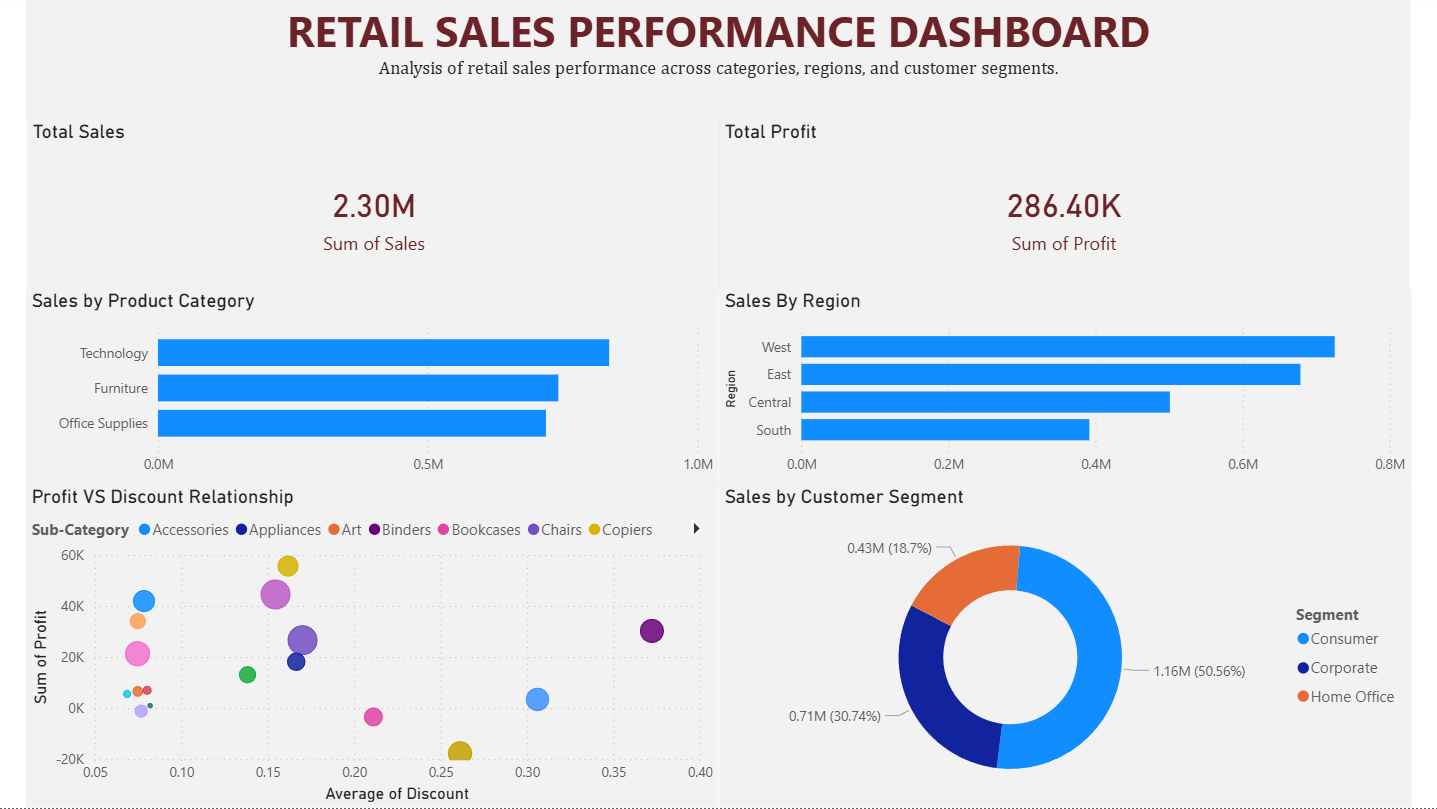

The dashboard page shown, as its layout file describes it:
{"tool":"powerbi","page":{"name":"Page 1","canvas":[1280,720],"ordinal":0},"visuals":[{"type":"textbox","box":[23.9,0,1228.1,110],"z":0},{"type":"card","title":"Total Profit","fields":{"Values":["Sum(SampleSuperstore.Profit)"]},"box":[638.4,110,611.8,149.9],"z":1},{"type":"card","title":"Total Sales","fields":{"Values":["Sum(SampleSuperstore.Sales)"]},"box":[24.8,110,615.4,149.9],"z":2},{"type":"clusteredBarChart","title":"Sales by Product Category","fields":{"Y":["Sum(SampleSuperstore.Sales)"],"Category":["SampleSuperstore.Category"]},"box":[23.9,259.8,614.5,173.8],"z":3},{"type":"clusteredBarChart","title":"Sales By Region","fields":{"Category":["SampleSuperstore.Region"],"Y":["Sum(SampleSuperstore.Sales)"]},"box":[638.4,259.8,613.6,173.8],"z":4},{"type":"scatterChart","title":"Profit VS Discount Relationship","fields":{"X":["Avg(SampleSuperstore.Discount)"],"Y":["Sum(SampleSuperstore.Profit)"],"Size":["Sum(SampleSuperstore.Sales)"],"Series":["SampleSuperstore.Sub-Category"]},"box":[23.9,433.6,614.5,286.4],"z":5},{"type":"donutChart","title":"Sales by Customer Segment","fields":{"Category":["SampleSuperstore.Segment"],"Y":["Sum(SampleSuperstore.Sales)"]},"box":[638.4,433.6,613.6,286.4],"z":6}]}

Visuals, with their boxes in screenshot pixels (x1, y1, x2, y2), scaled from the page's 1280x720 canvas onto the 1437x809 screenshot:
textbox: (x1=27, y1=0, x2=1406, y2=124)
"Total Profit" card: (x1=717, y1=124, x2=1404, y2=292)
"Total Sales" card: (x1=28, y1=124, x2=719, y2=292)
"Sales by Product Category" clusteredBarChart: (x1=27, y1=292, x2=717, y2=487)
"Sales By Region" clusteredBarChart: (x1=717, y1=292, x2=1406, y2=487)
"Profit VS Discount Relationship" scatterChart: (x1=27, y1=487, x2=717, y2=808)
"Sales by Customer Segment" donutChart: (x1=717, y1=487, x2=1406, y2=808)
